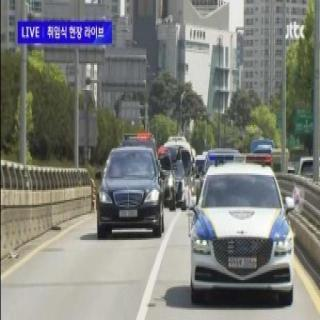Police_car: (189, 147, 295, 299)
